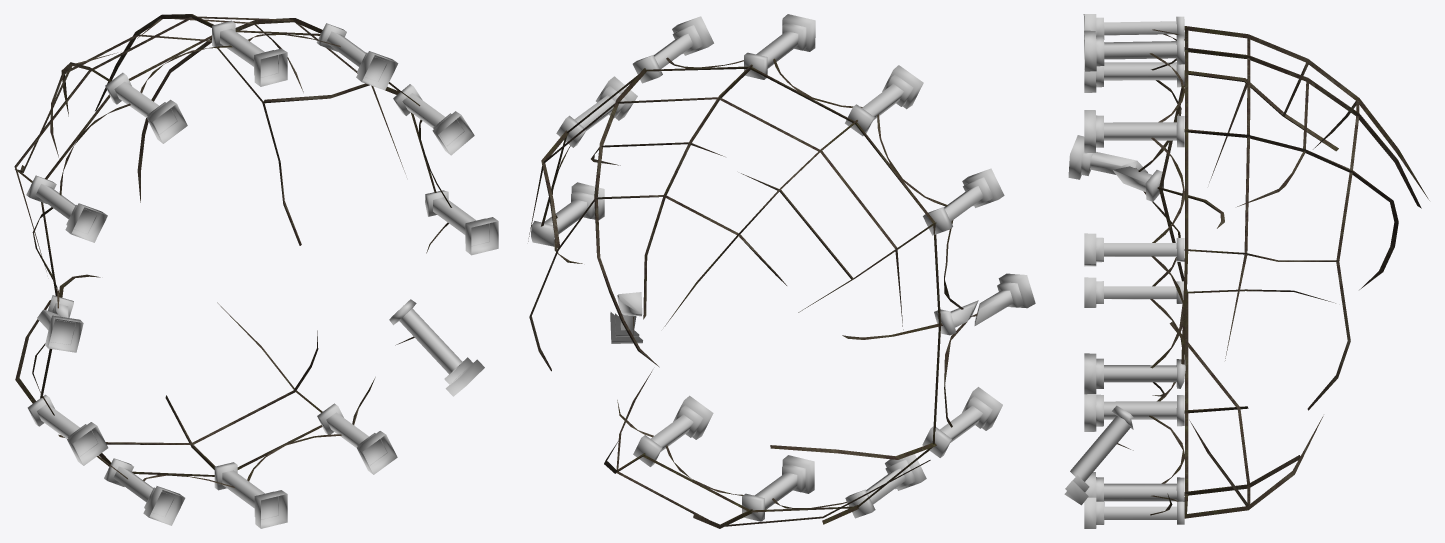
The model's file is TI_Dome_02_LOD_01.fbx.
The picture shows the model from 3 angles, left to right: view 1: azimuth 30°, elevation 25°; view 2: azimuth 150°, elevation 25°; view 3: azimuth 270°, elevation 25°; orthographic projection.
Visible parts, largest first — view 1: TI_Dome_Pillars_02_LOD_01, Ti_Dome_02_LOD_01; view 2: TI_Dome_Pillars_02_LOD_01, Ti_Dome_02_LOD_01; view 3: TI_Dome_Pillars_02_LOD_01, Ti_Dome_02_LOD_01.
Part boxes in pixels (bbox=[...]): TI_Dome_Pillars_02_LOD_01: bbox=[26, 20, 498, 528]; Ti_Dome_02_LOD_01: bbox=[14, 14, 451, 487]; TI_Dome_Pillars_02_LOD_01: bbox=[531, 14, 1035, 521]; Ti_Dome_02_LOD_01: bbox=[528, 57, 977, 528]; TI_Dome_Pillars_02_LOD_01: bbox=[1064, 14, 1185, 528]; Ti_Dome_02_LOD_01: bbox=[1117, 26, 1429, 518].
Bounding box in the file's own units: 24.12 × 23.82 × 16.85.
